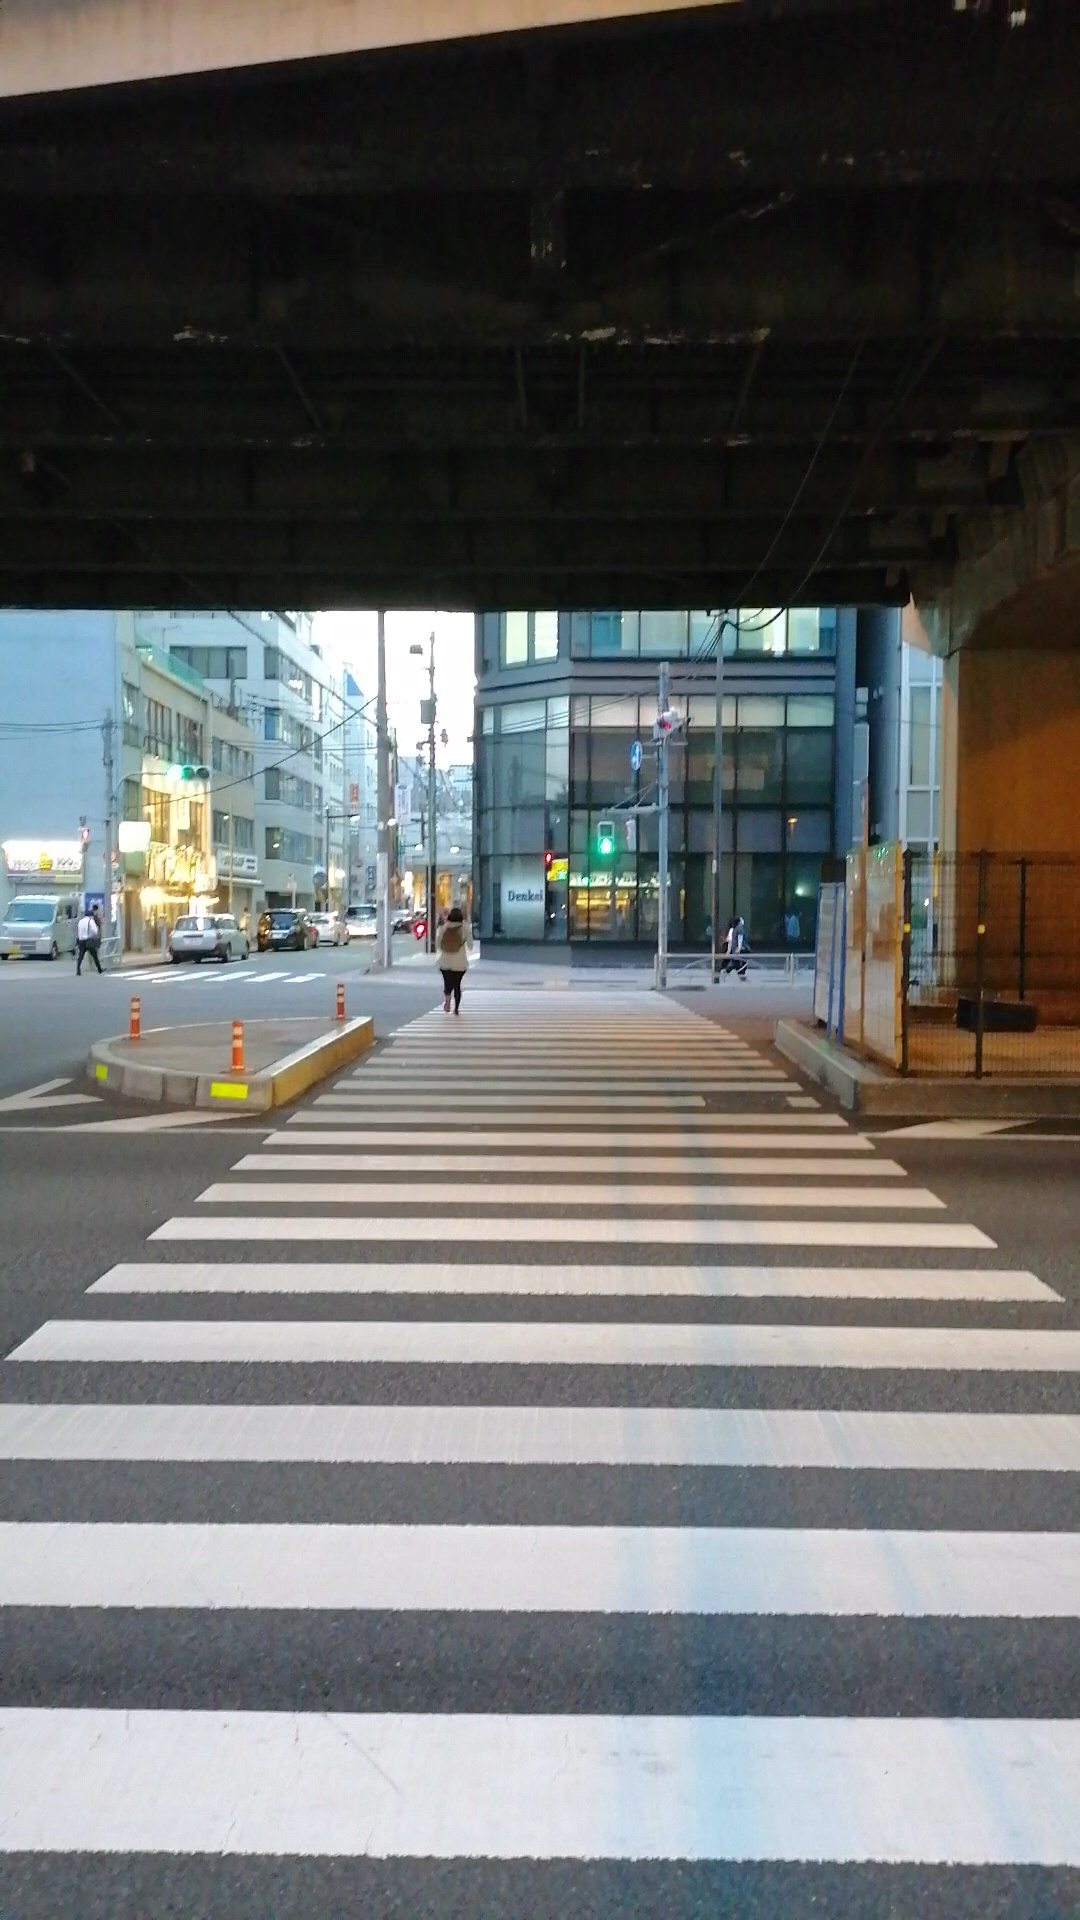green: (595, 818, 615, 855)
